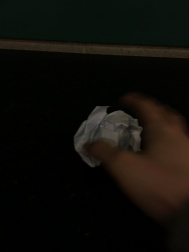paper_white: (68, 99, 143, 176)
